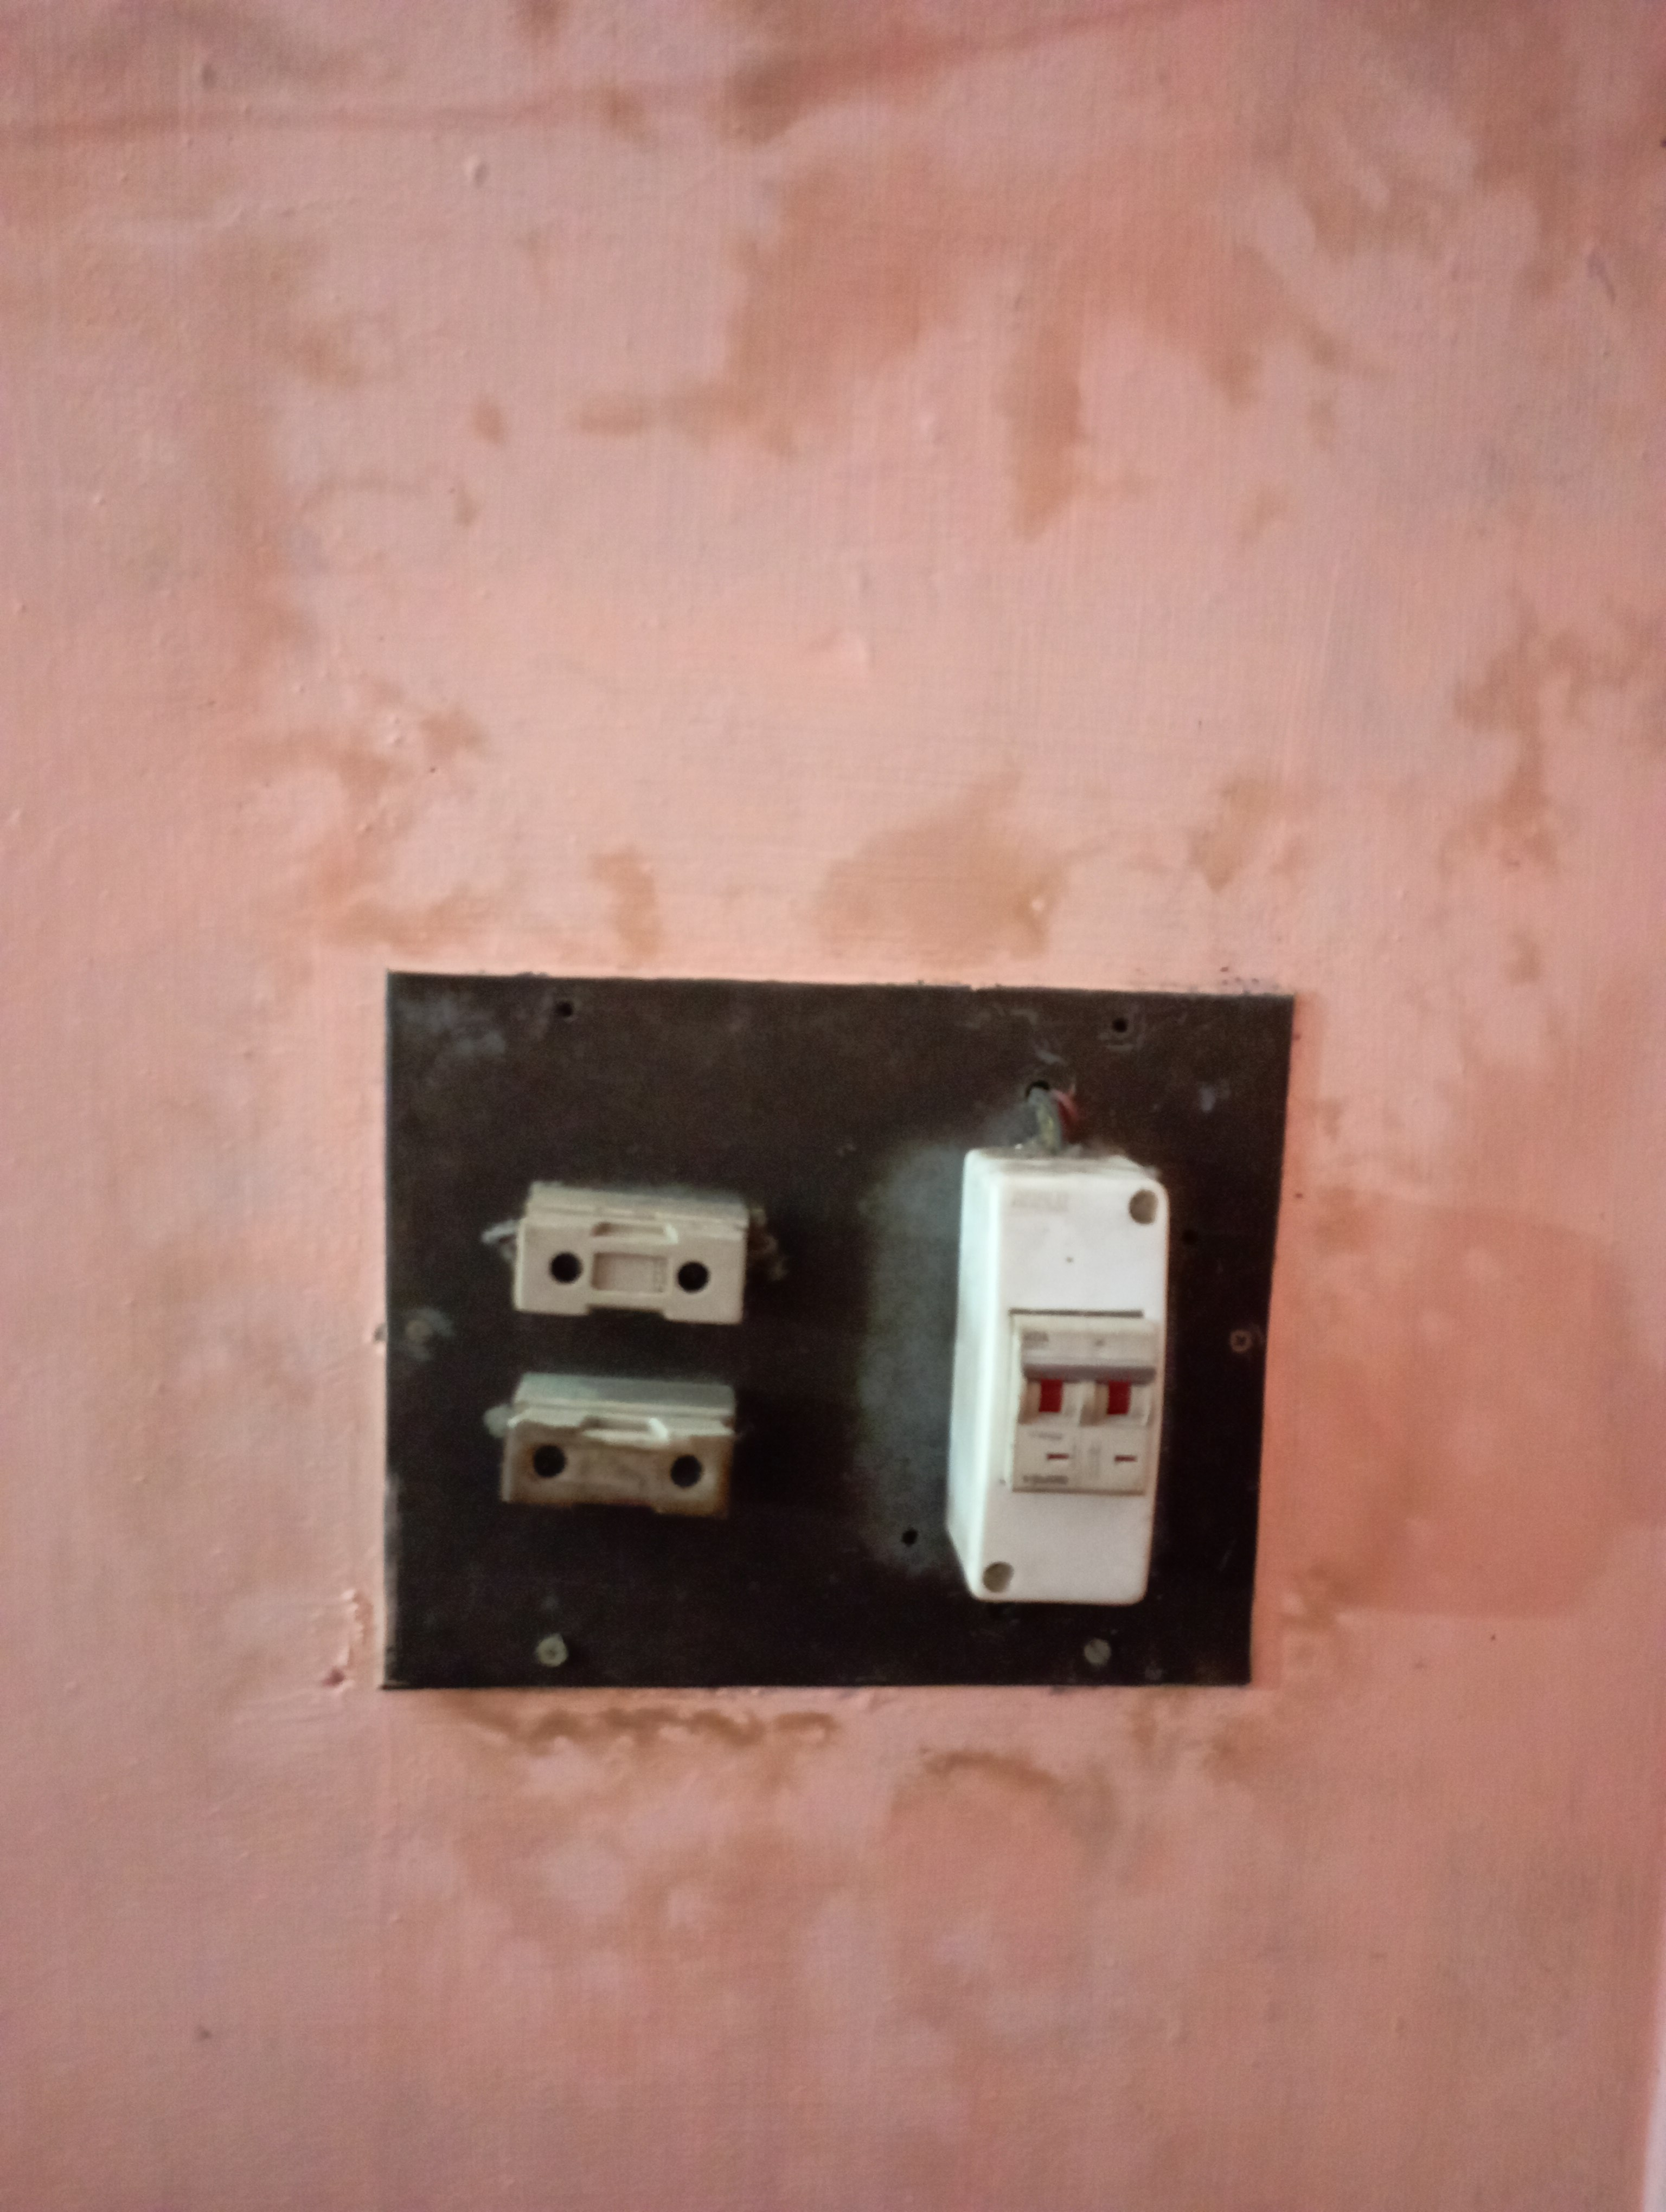ciruit_breaker: (912, 1124, 1172, 1612)
fuse: (490, 1168, 784, 1325), (485, 1374, 781, 1511)
